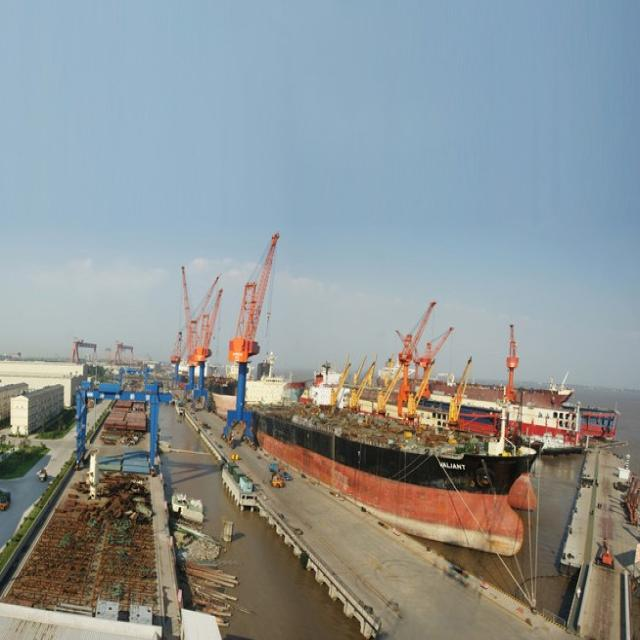cargoship: (247, 386, 538, 568)
